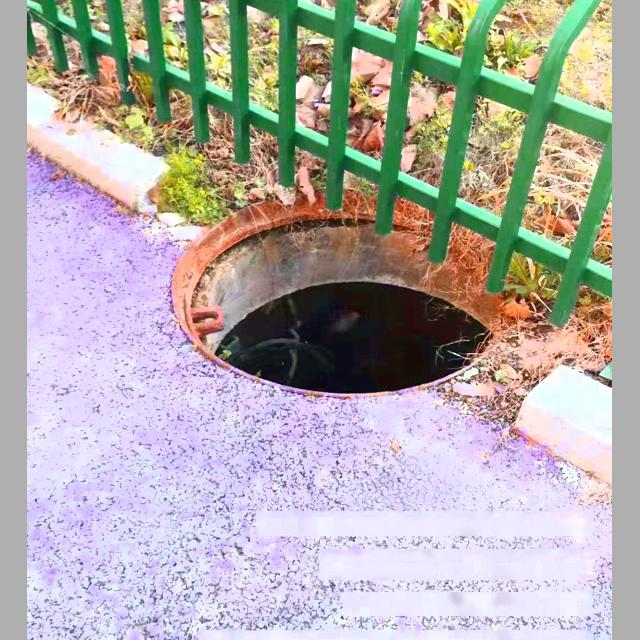lose: (133, 184, 554, 409)
